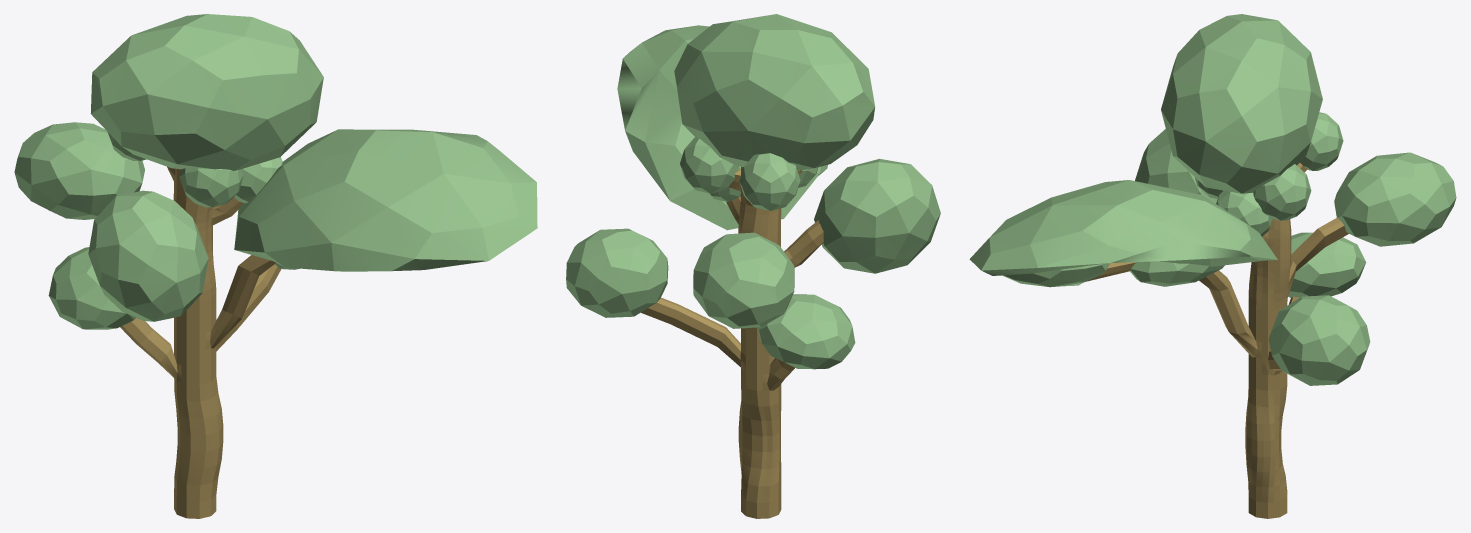
File: PoopooTree.fbx
3 views of the same model, side by side, from view 1: azimuth 30°, elevation 25°; view 2: azimuth 150°, elevation 25°; view 3: azimuth 270°, elevation 25° (orthographic). The views are drawn at different scales.
Visible parts, largest first — view 1: Tree4; view 2: Tree4; view 3: Tree4.
Boxes of the visible parts, x1,y1,x2,y2 form: Tree4: (14, 14, 537, 518); Tree4: (566, 14, 940, 518); Tree4: (969, 14, 1456, 518).
Size of the model in its own units: 4.89 by 6.5 by 6.01.
